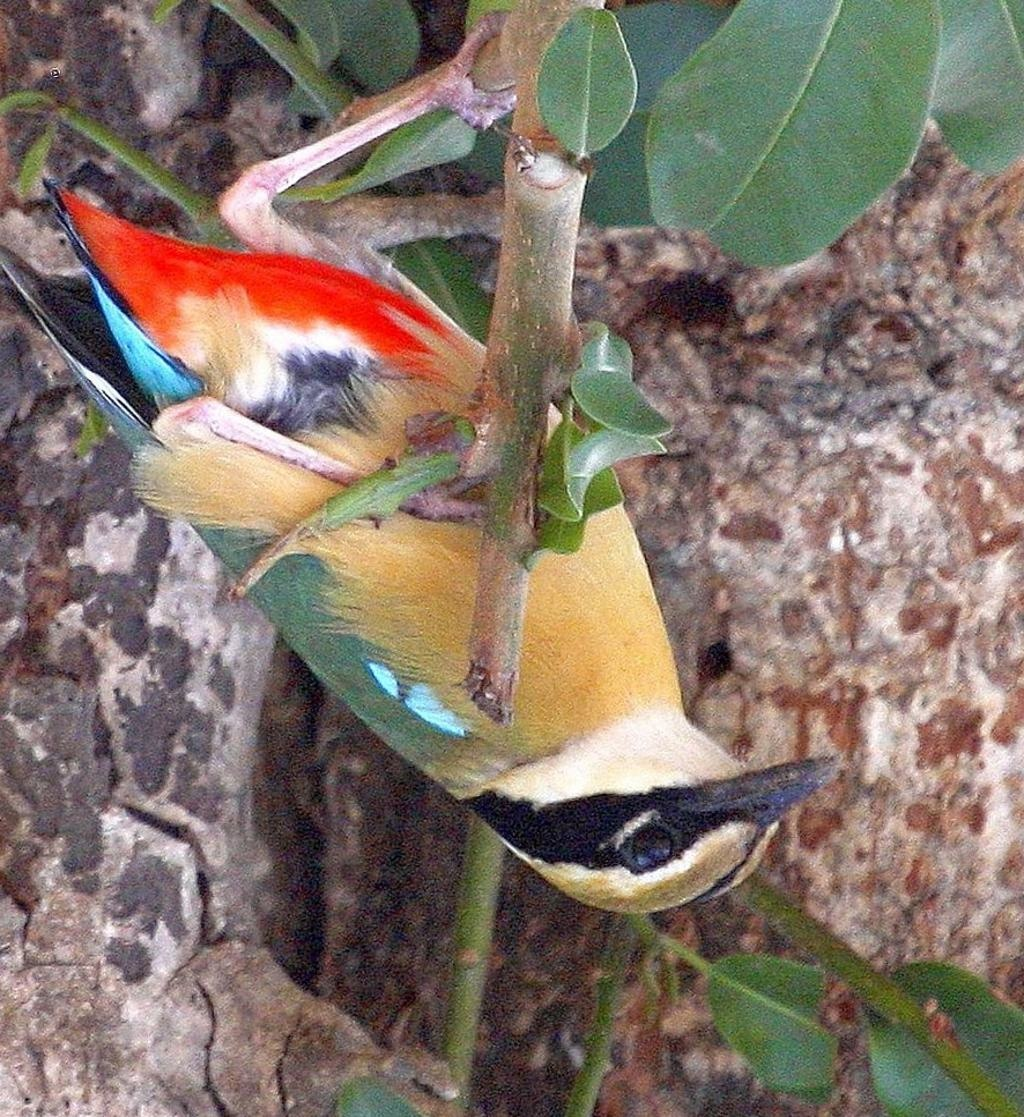pitta: (1, 98, 860, 928)
